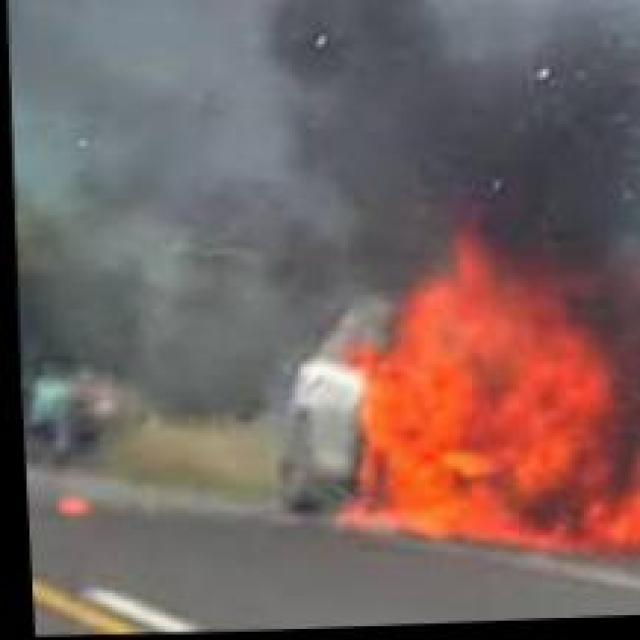Fire: (327, 232, 637, 560)
Smoke: (0, 0, 445, 300)
